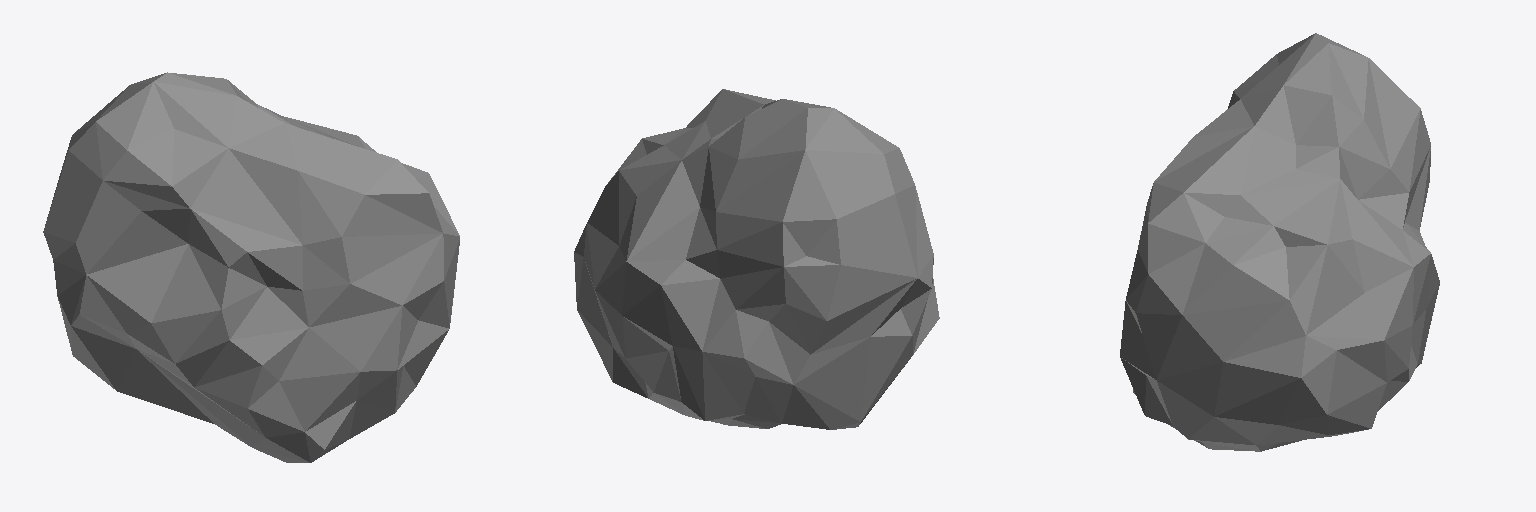
Rendered from Asteroid_7.obj.
3 views of the same model, side by side, from view 1: azimuth 30°, elevation 25°; view 2: azimuth 150°, elevation 25°; view 3: azimuth 270°, elevation 25° (orthographic).
Parts seen in each view (by area): view 1: Asteroid_7; view 2: Asteroid_7; view 3: Asteroid_7.
Boxes of the visible parts, <box> form: Asteroid_7: <box>43,72,459,462</box>; Asteroid_7: <box>574,89,939,429</box>; Asteroid_7: <box>1120,33,1439,451</box>.
Size of the model in its own units: 87.39 by 82.76 by 66.15.